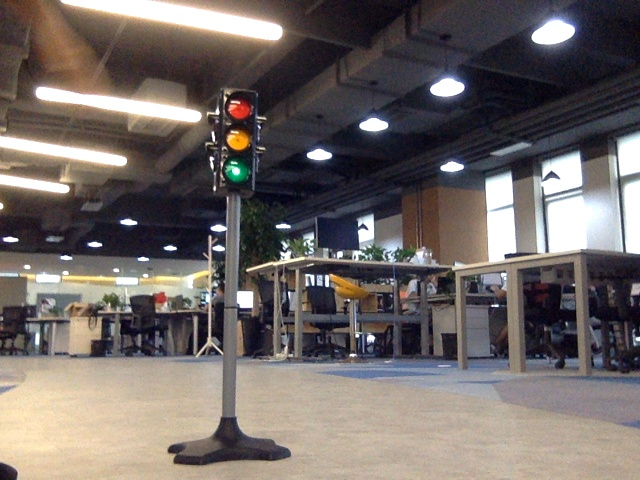green: (222, 94, 251, 182)
